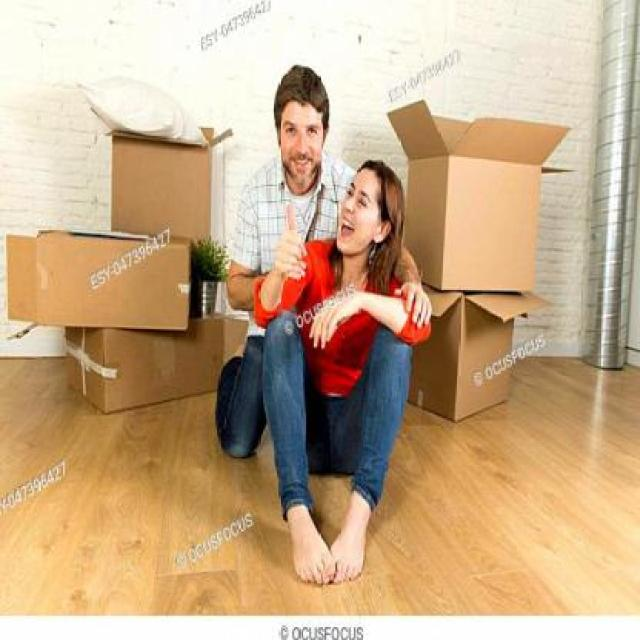box: (387, 89, 599, 301), (78, 55, 258, 253), (0, 216, 200, 356), (410, 270, 562, 433), (51, 304, 246, 414)
